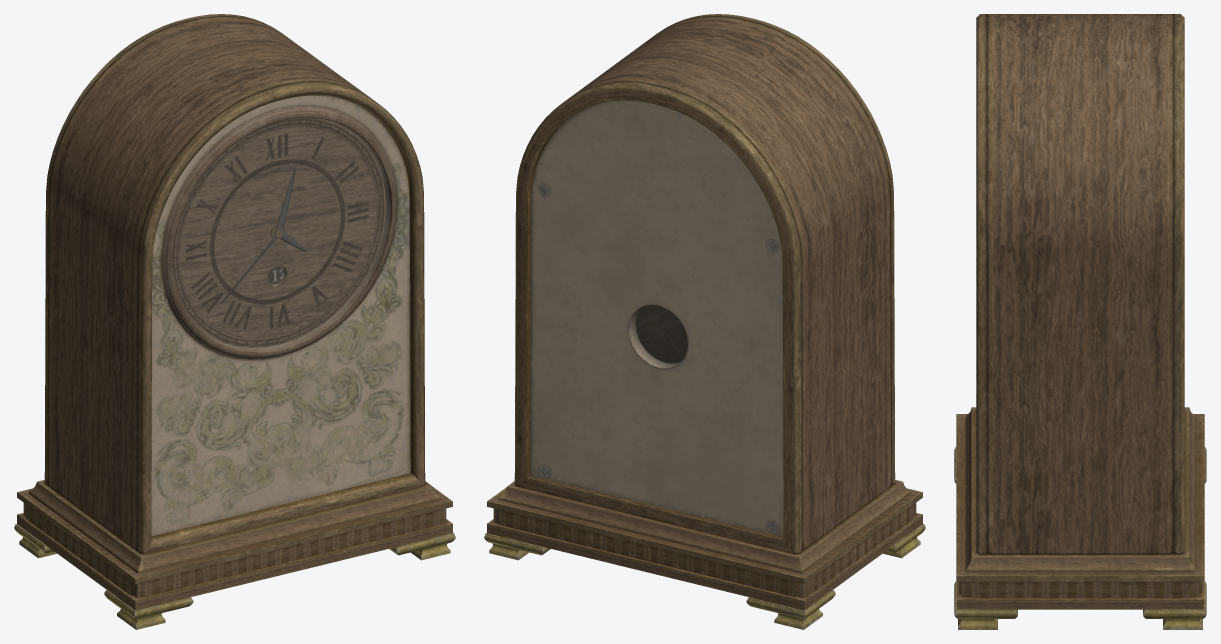
The model's file is table_clock.glb.
3 renders of one model, left to right at view 1: azimuth 30°, elevation 25°; view 2: azimuth 150°, elevation 25°; view 3: azimuth 270°, elevation 25°, orthographic. The views are drawn at different scales.
Parts seen in each view (by area): view 1: tc1_low, tc7_low, tc2_low; view 2: tc1_low, tc2_low; view 3: tc1_low, tc2_low.
Boxes of the visible parts, x1,y1,x2,y2 form: tc1_low: (17, 14, 452, 610); tc7_low: (173, 118, 389, 350); tc2_low: (14, 524, 455, 629); tc1_low: (487, 14, 922, 610); tc2_low: (484, 524, 925, 629); tc1_low: (956, 14, 1204, 609); tc2_low: (954, 447, 1206, 629).
Bounding box in the file's own units: 18.96 × 27.93 × 12.32.
Materials: 1 (1 with a texture image).
